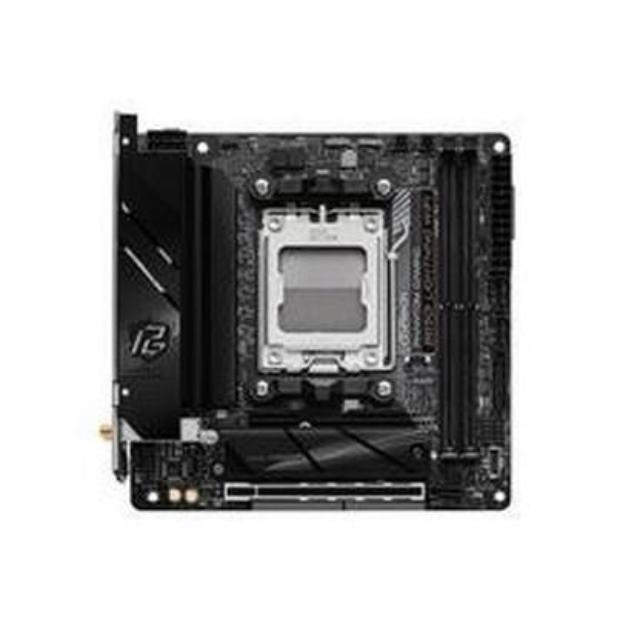Mainboard: (103, 100, 523, 526)
